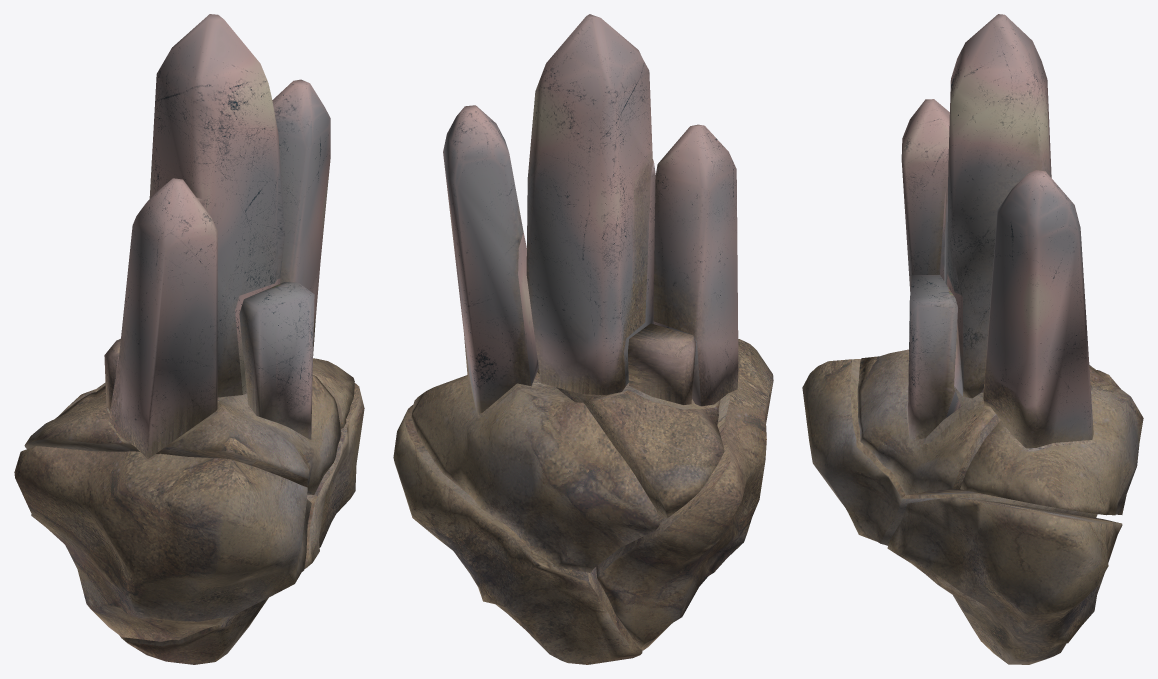
Rendered from SM_Mineral_2_Pieces.fbx.
The picture shows the model from 3 angles, left to right: view 1: azimuth 30°, elevation 25°; view 2: azimuth 150°, elevation 25°; view 3: azimuth 270°, elevation 25°; orthographic projection. The views are drawn at different scales.
Parts seen in each view (by area): view 1: SM_Mineral_2_Piece_2, SM_Mineral_2_Piece_5, SM_Mineral_2_Piece_3, SM_Mineral_2_Piece_4, SM_Mineral_2_Piece_7, SM_Mineral_2_Piece_8, SM_Mineral_2_Piece_1, SM_Mineral_2_Piece_6, SM_Mineral_2_Piece_9; view 2: SM_Mineral_2_Piece_5, SM_Mineral_2_Piece_6, SM_Mineral_2_Piece_2, SM_Mineral_2_Piece_8, SM_Mineral_2_Piece_1, SM_Mineral_2_Piece_3, SM_Mineral_2_Piece_4, SM_Mineral_2_Piece_9; view 3: SM_Mineral_2_Piece_1, SM_Mineral_2_Piece_8, SM_Mineral_2_Piece_5, SM_Mineral_2_Piece_6, SM_Mineral_2_Piece_2, SM_Mineral_2_Piece_4, SM_Mineral_2_Piece_7, SM_Mineral_2_Piece_3.
Boxes of the visible parts, x1,y1,x2,y2 form: SM_Mineral_2_Piece_2: (14, 446, 311, 641); SM_Mineral_2_Piece_5: (149, 14, 284, 397); SM_Mineral_2_Piece_3: (108, 178, 217, 458); SM_Mineral_2_Piece_4: (24, 375, 341, 494); SM_Mineral_2_Piece_7: (239, 282, 314, 439); SM_Mineral_2_Piece_8: (272, 79, 330, 355); SM_Mineral_2_Piece_1: (119, 383, 364, 664); SM_Mineral_2_Piece_6: (59, 358, 354, 428); SM_Mineral_2_Piece_9: (104, 338, 120, 411); SM_Mineral_2_Piece_5: (526, 14, 655, 395); SM_Mineral_2_Piece_6: (411, 372, 659, 572); SM_Mineral_2_Piece_2: (596, 339, 773, 650); SM_Mineral_2_Piece_8: (443, 105, 538, 413); SM_Mineral_2_Piece_1: (393, 404, 642, 664); SM_Mineral_2_Piece_3: (653, 124, 738, 406); SM_Mineral_2_Piece_4: (537, 368, 724, 518); SM_Mineral_2_Piece_9: (628, 323, 696, 404); SM_Mineral_2_Piece_1: (887, 497, 1122, 664); SM_Mineral_2_Piece_8: (983, 170, 1093, 448); SM_Mineral_2_Piece_5: (944, 14, 1051, 398); SM_Mineral_2_Piece_6: (960, 366, 1143, 515); SM_Mineral_2_Piece_2: (802, 359, 1097, 545); SM_Mineral_2_Piece_4: (857, 349, 1095, 494); SM_Mineral_2_Piece_7: (906, 275, 961, 441); SM_Mineral_2_Piece_3: (901, 99, 949, 291).
Size of the model in its own units: 0.895 by 0.7837 by 1.63.
